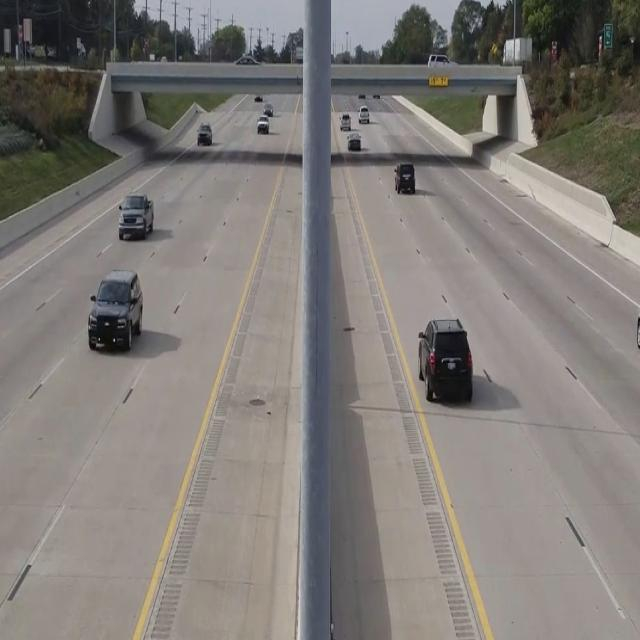car: (87, 269, 143, 352), (418, 316, 472, 402), (117, 192, 153, 240), (394, 162, 414, 194), (197, 123, 212, 146)
